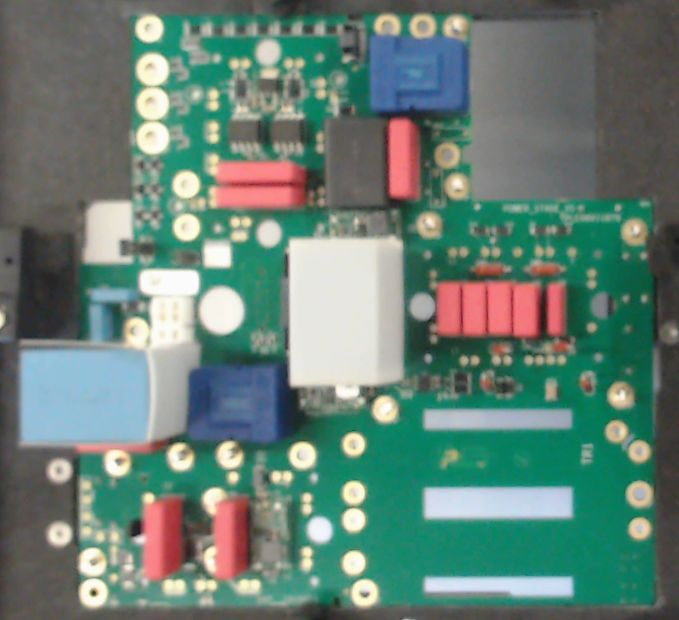comp1: (368, 33, 470, 117), (187, 365, 287, 443)
comp2: (141, 498, 182, 581), (386, 118, 422, 202), (215, 497, 249, 580), (213, 185, 305, 210), (215, 161, 305, 184), (460, 279, 489, 339), (513, 279, 539, 340), (435, 280, 462, 338), (488, 279, 514, 339), (545, 280, 567, 336)
comp3: (323, 117, 389, 209)
comp4: (15, 338, 201, 445), (287, 236, 405, 386)
